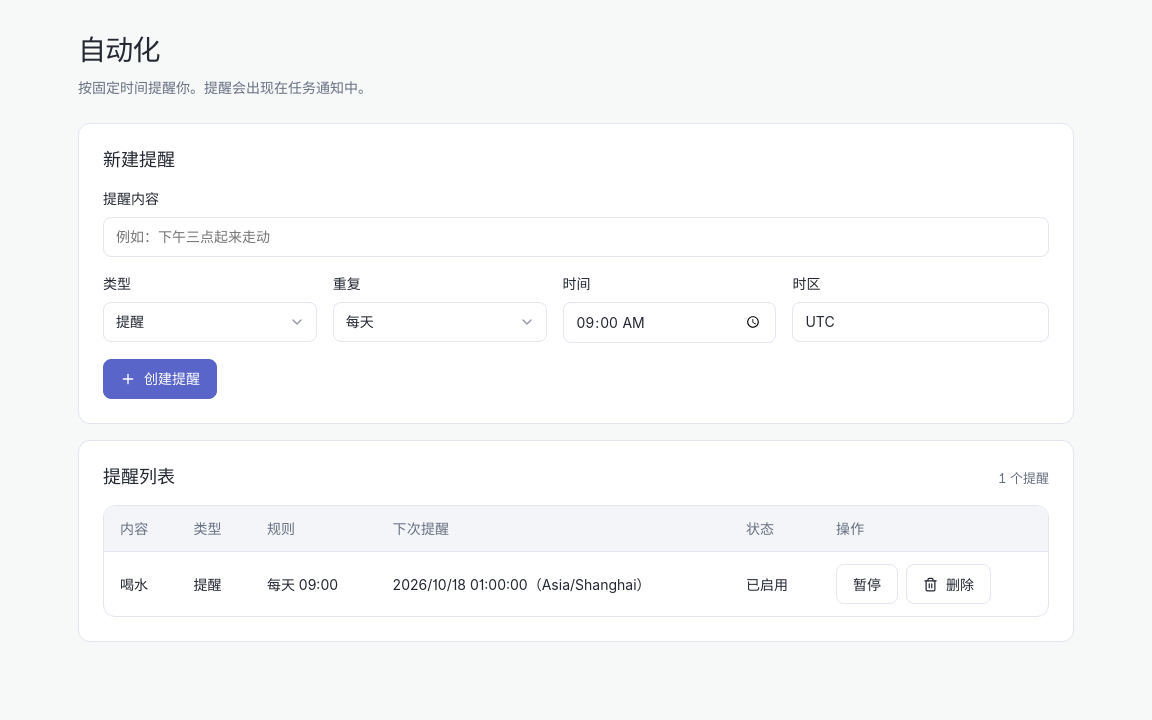
Test: AutomationsPage › deletes a reminder from the list
The image size is (1152, 720).
Expected: the text "喝水" is shown, [104, 552, 178, 616]
Step 1. Click the button "删除" → (949, 584), box [906, 564, 991, 604]
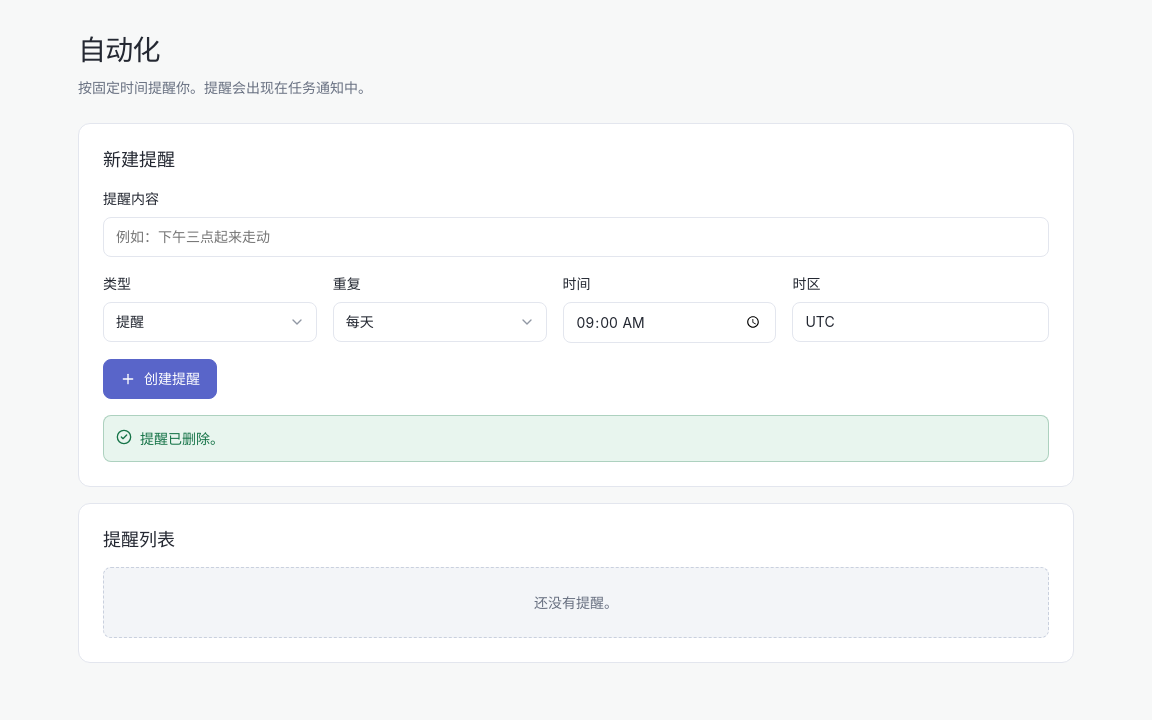
Now the text "喝水" is gone
